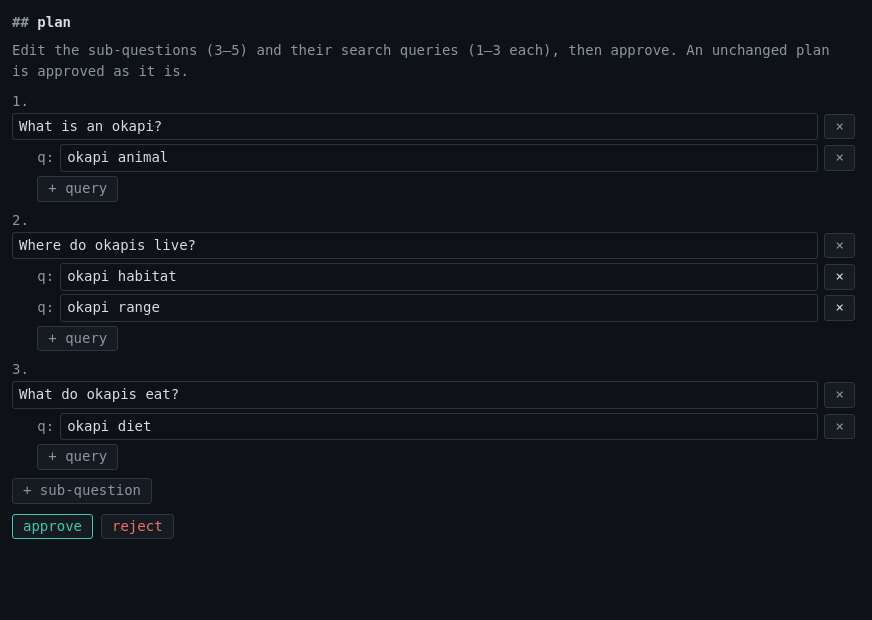
Test: PlanEditor › shows the server's 422 details next to their fields
In the field named "Sub-question 1": point(415, 127) [12,113,818,140], type " exactly"
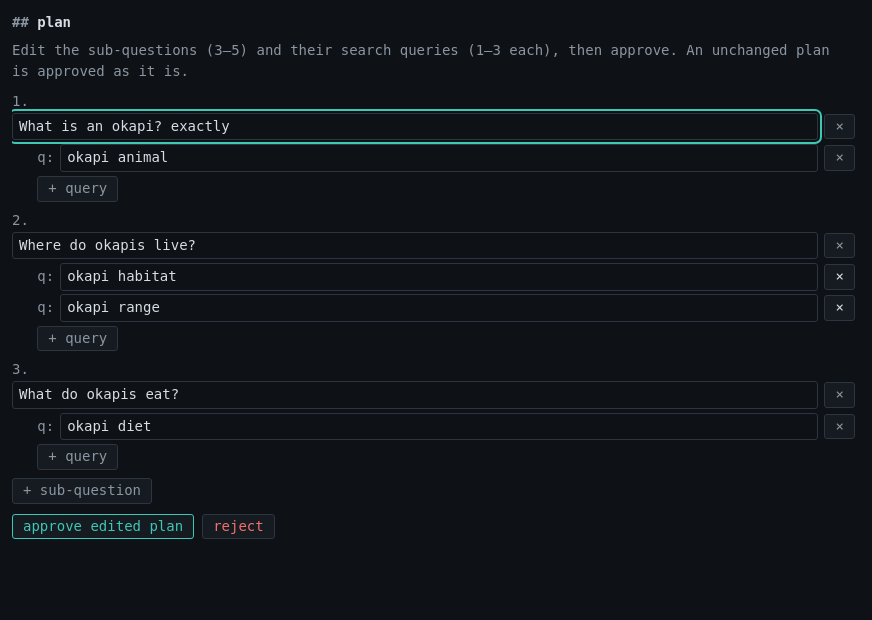
Click the button "approve edited plan": point(103, 527) [12,514,194,539]
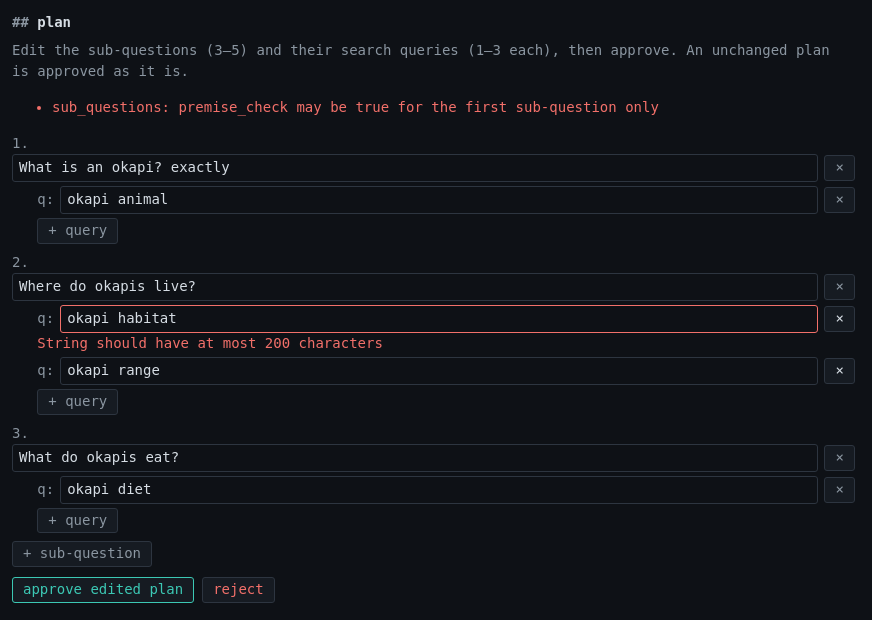
Expected: the text "String should have at most 200 characters" is shown, [37,335,383,351]
Expected: the message reads "sub_questions: premise_check may be true for the first sub-question only", [52,99,659,115]
